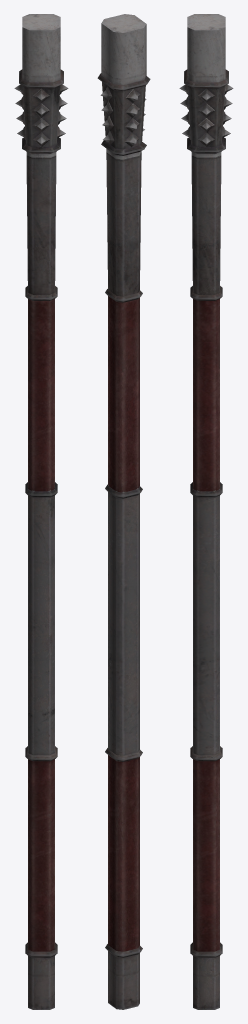
The model's file is sm_dwarf_iron_mattock_handle_b.fbx.
3 renders of one model, left to right at view 1: azimuth 90°, elevation 25°; view 2: azimuth 210°, elevation 25°; view 3: azimuth 270°, elevation 25°, orthographic.
Parts seen in each view (by area): view 1: sm_dwarf_iron_mattock_handle_b; view 2: sm_dwarf_iron_mattock_handle_b; view 3: sm_dwarf_iron_mattock_handle_b.
Part boxes in pixels (bbox=[...]): sm_dwarf_iron_mattock_handle_b: bbox=[14, 14, 68, 1009]; sm_dwarf_iron_mattock_handle_b: bbox=[97, 14, 150, 1009]; sm_dwarf_iron_mattock_handle_b: bbox=[179, 14, 233, 1009].
Size of the model in its own units: 0.0803 by 0.0803 by 1.6.
Materials: 1 (1 with a texture image).
